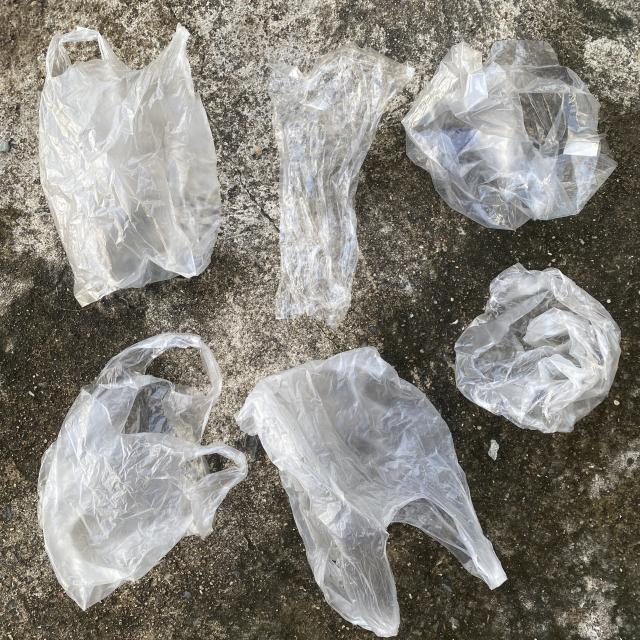Single-layer Plastic: (235, 348, 506, 636), (39, 334, 248, 609), (39, 25, 221, 306), (269, 42, 414, 328), (402, 40, 616, 230), (455, 264, 621, 432)
